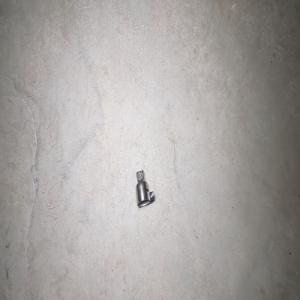MetalPart: (135, 169, 154, 207)
